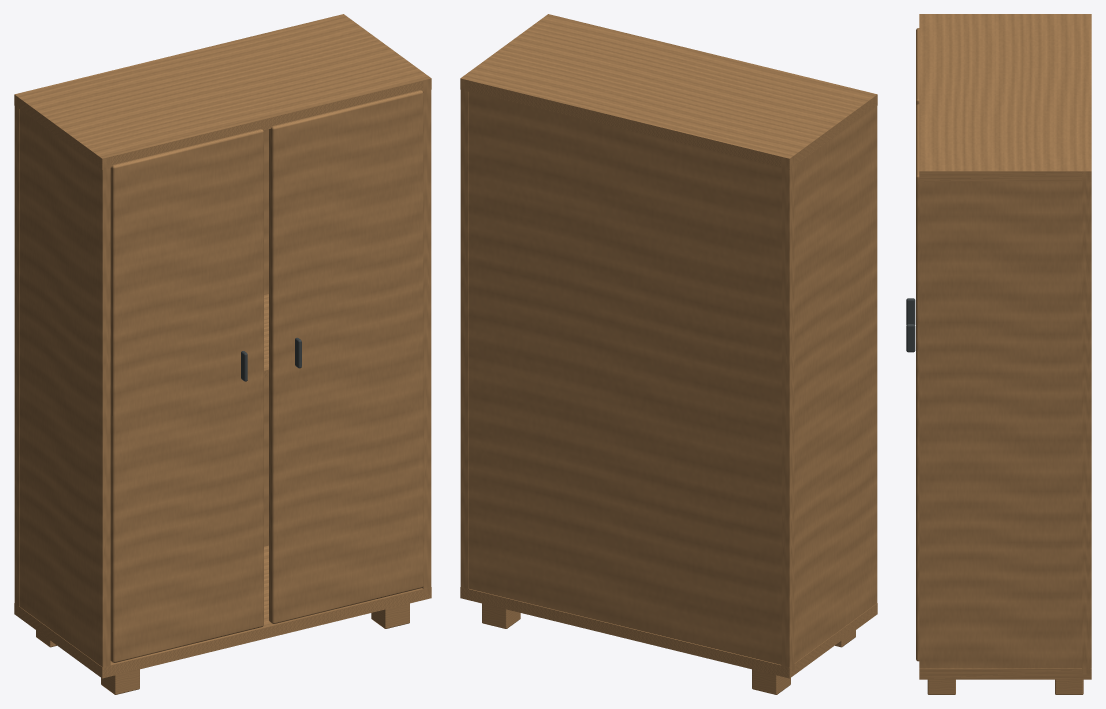
File: wardrobe_campus-fdf7604d9a54.glb
3 renders of one model, left to right at view 1: azimuth 30°, elevation 25°; view 2: azimuth 150°, elevation 25°; view 3: azimuth 270°, elevation 25°, orthographic. The views are drawn at different scales.
Visible parts, largest first — view 1: surface_oak; view 2: surface_oak; view 3: surface_oak, surface_graphite.
Part boxes in pixels (<box>): surface_oak: <box>14,14,431,694</box>; surface_oak: <box>460,14,877,694</box>; surface_oak: <box>916,14,1091,694</box>; surface_graphite: <box>906,298,915,352</box>.
Bounding box in the file's own units: 1.21 × 1.91 × 0.6026.
2 materials, 1 textured.
